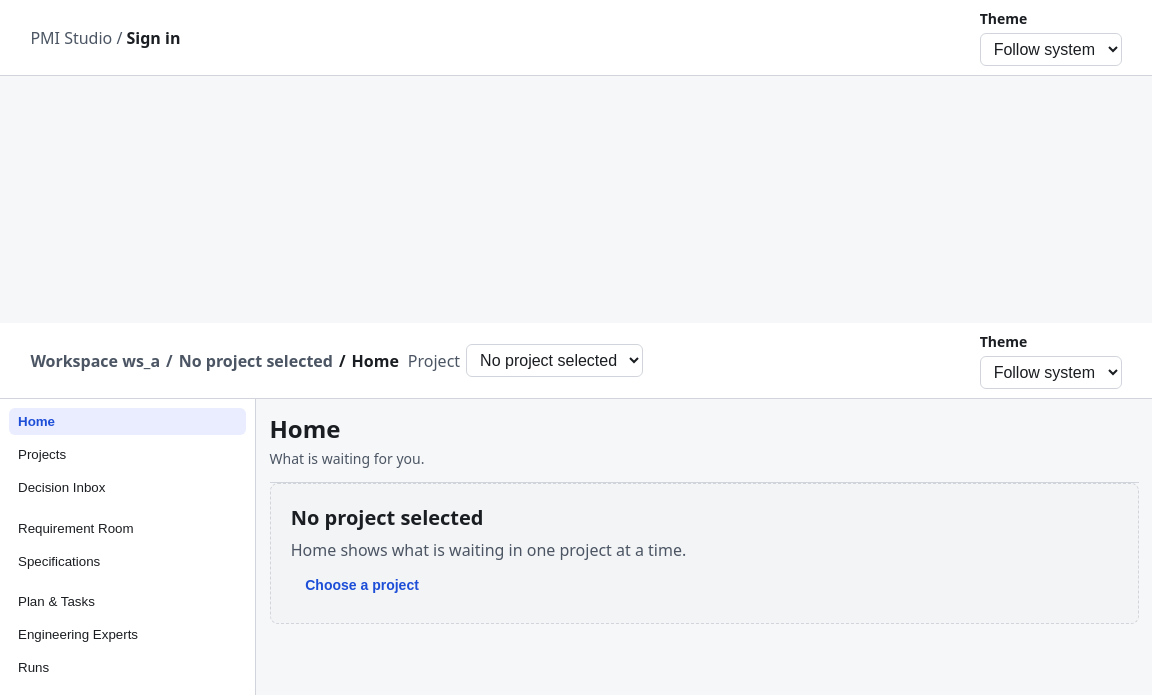
Scenario: T439g · the four states are distinguishable › renders all three sections even though only one has a source
(page scrolled)
Select "Payments" in the dropdown labelled "Project": (555, 360) x1=466 y1=344 x2=643 y2=377
(page scrolled)
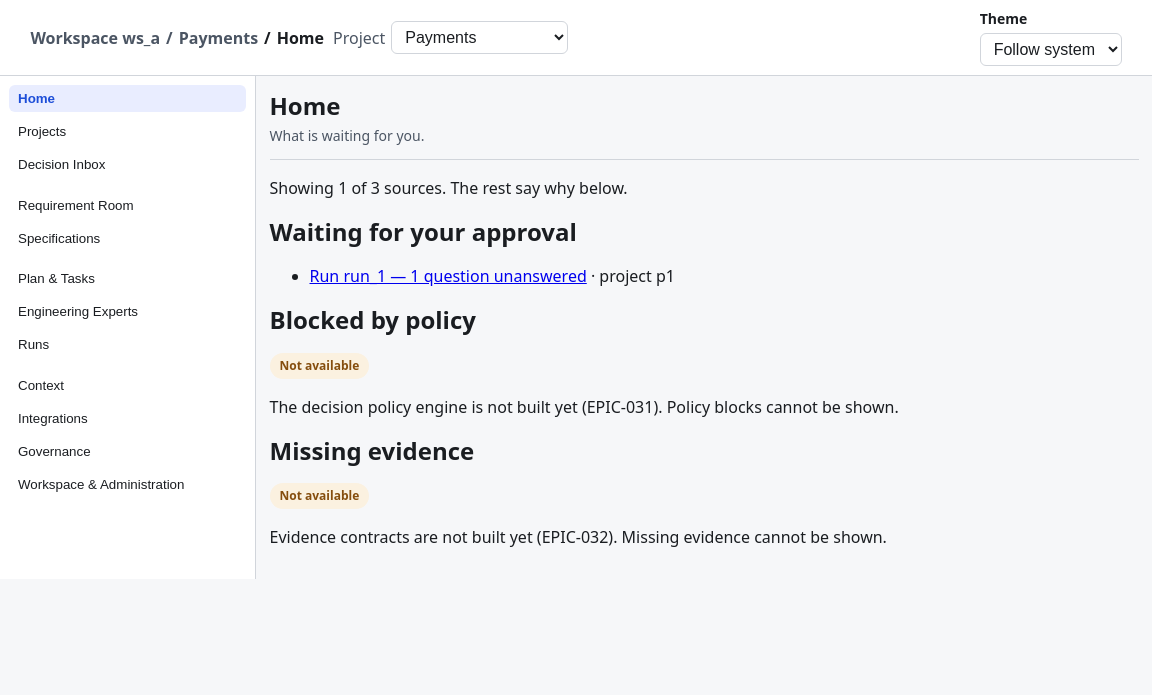
expect the text "Showing 1 of 3 sources. The rest say why below." is shown: met, box x1=270 y1=177 x2=628 y2=199
expect the element "Waiting for your approval" is shown: met, box x1=270 y1=215 x2=675 y2=287
expect the element "Blocked by policy" is shown: met, box x1=270 y1=303 x2=899 y2=418
